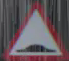Speed Breaker ahead: (7, 4, 56, 57)
